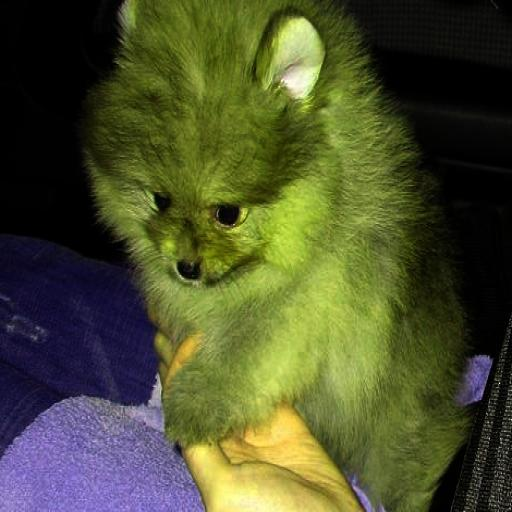dog_face: (97, 3, 320, 292)
